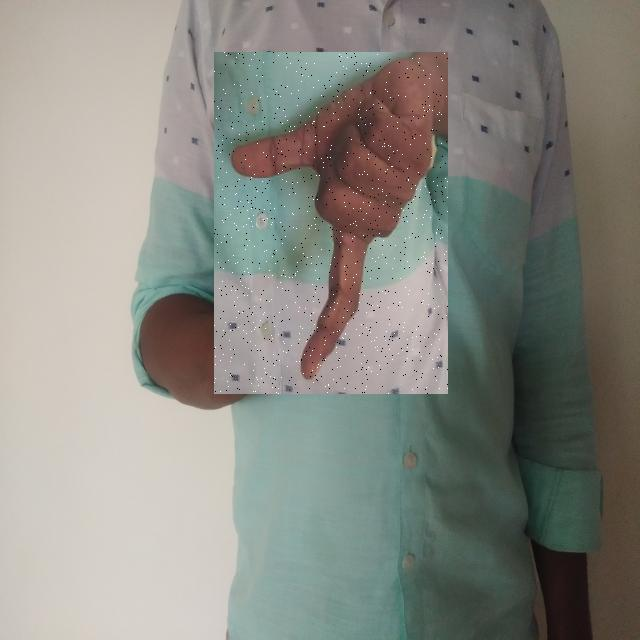L: (214, 52, 448, 394)
